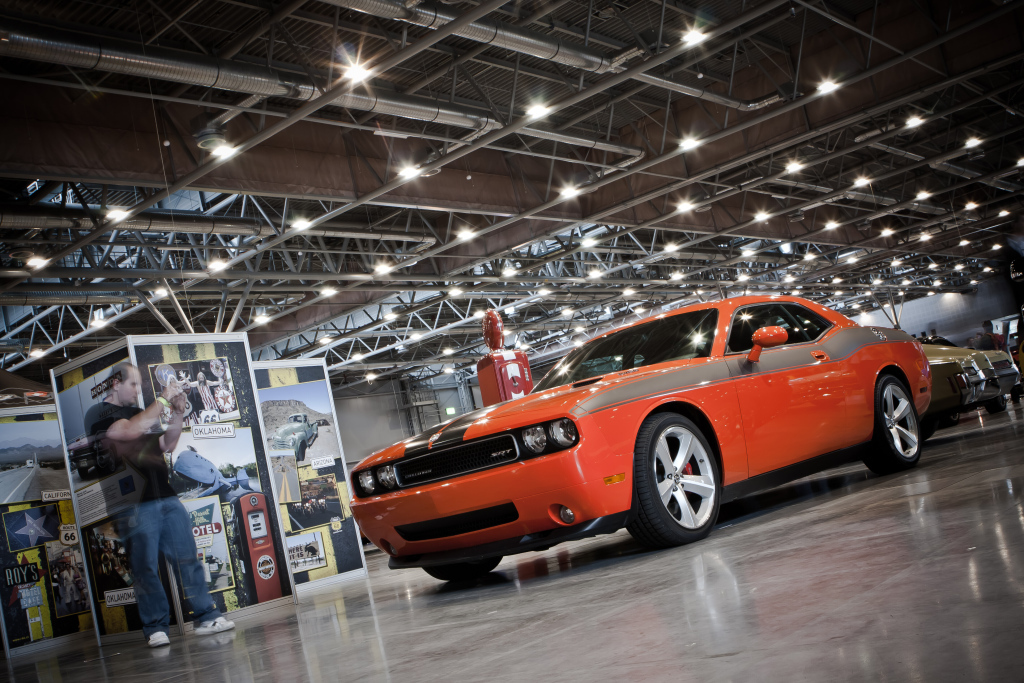Car: (351, 294, 933, 582), (919, 336, 1021, 422), (271, 415, 320, 460)
